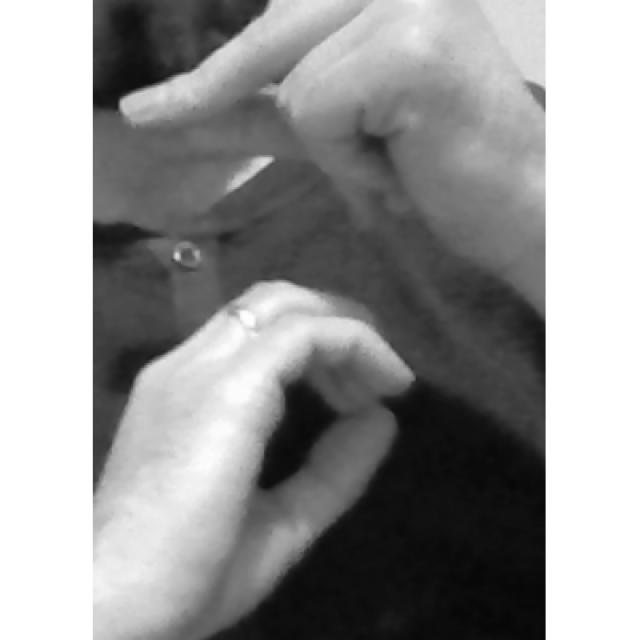O--: (95, 1, 542, 640)
